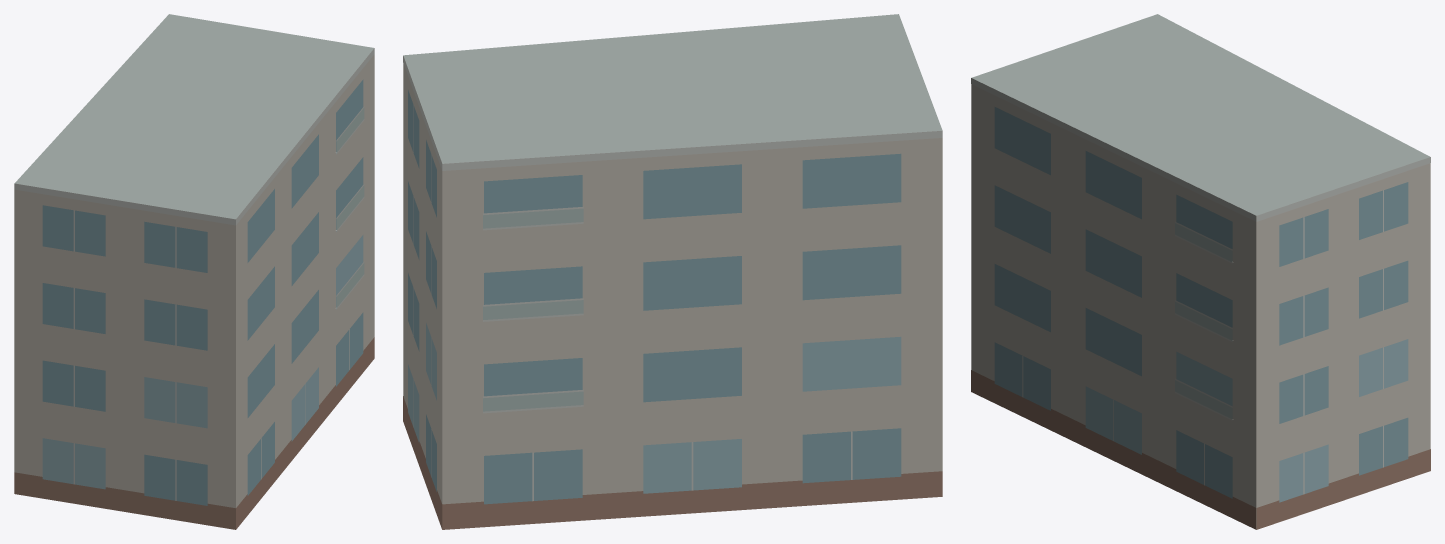
File: survey-upis-32779656.glb
The picture shows the model from 3 angles, left to right: view 1: azimuth 30°, elevation 25°; view 2: azimuth 150°, elevation 25°; view 3: azimuth 270°, elevation 25°; orthographic projection. The views are drawn at different scales.
Parts seen in each view (by area): view 1: survey-upis-32779656.tmp; view 2: survey-upis-32779656.tmp; view 3: survey-upis-32779656.tmp.
Part boxes in pixels (box(x1,y1,x2,y2)): survey-upis-32779656.tmp: box(14, 14, 374, 529); survey-upis-32779656.tmp: box(403, 14, 942, 529); survey-upis-32779656.tmp: box(971, 14, 1430, 529).
Size of the model in its own units: 17.24 by 12.5 by 16.58.
